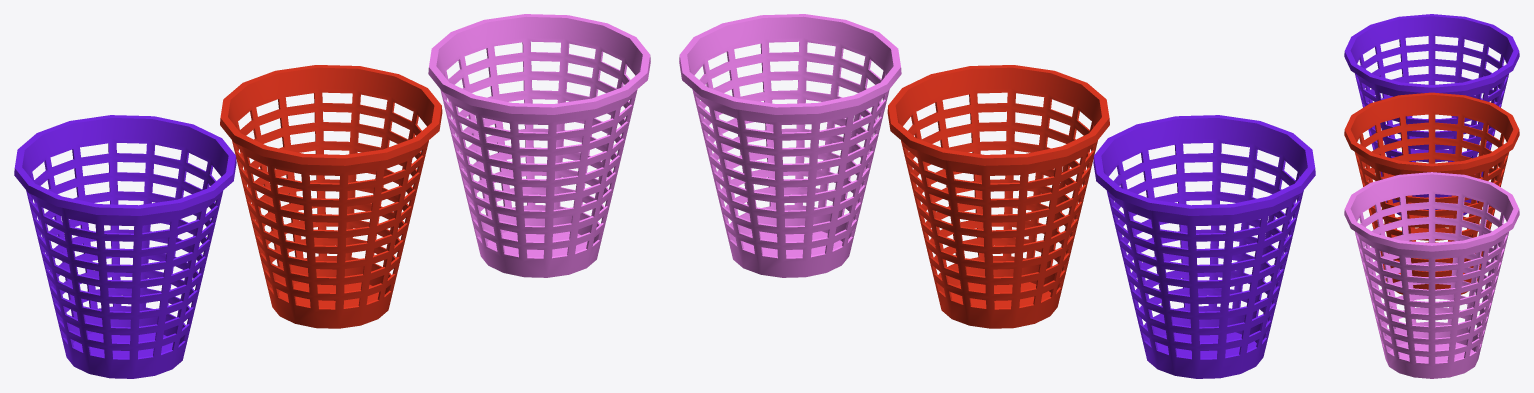
The model's file is trash-basket.glb.
3 views of the same model, side by side, from view 1: azimuth 30°, elevation 25°; view 2: azimuth 150°, elevation 25°; view 3: azimuth 270°, elevation 25° (orthographic). The views are drawn at different scales.
Parts seen in each view (by area): view 1: Cylinder_Material_001_0; view 2: Cylinder_Material_001_0; view 3: Cylinder_Material_001_0.
Part boxes in pixels (x1,y1,x2,y2): Cylinder_Material_001_0: [14, 14, 650, 378]; Cylinder_Material_001_0: [679, 14, 1315, 378]; Cylinder_Material_001_0: [1344, 14, 1519, 378].
Size of the model in its own units: 0.9921 by 0.3 by 0.3169.
Materials: 1 (1 with a texture image).
